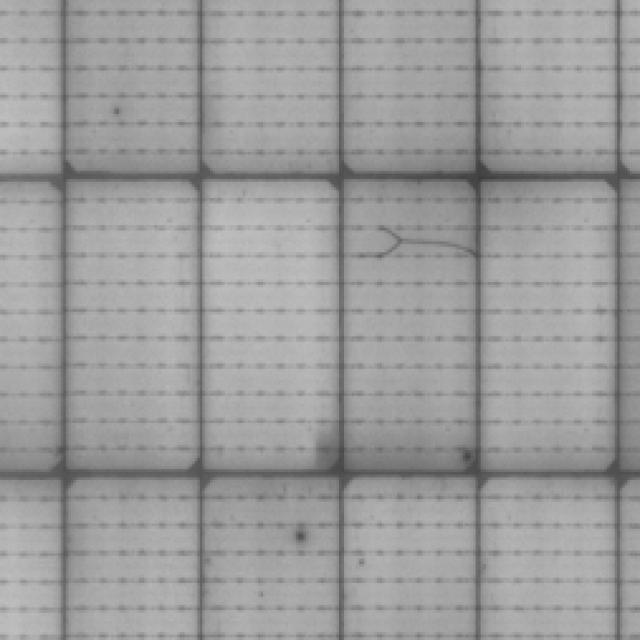CRACK: (375, 207, 494, 286)
